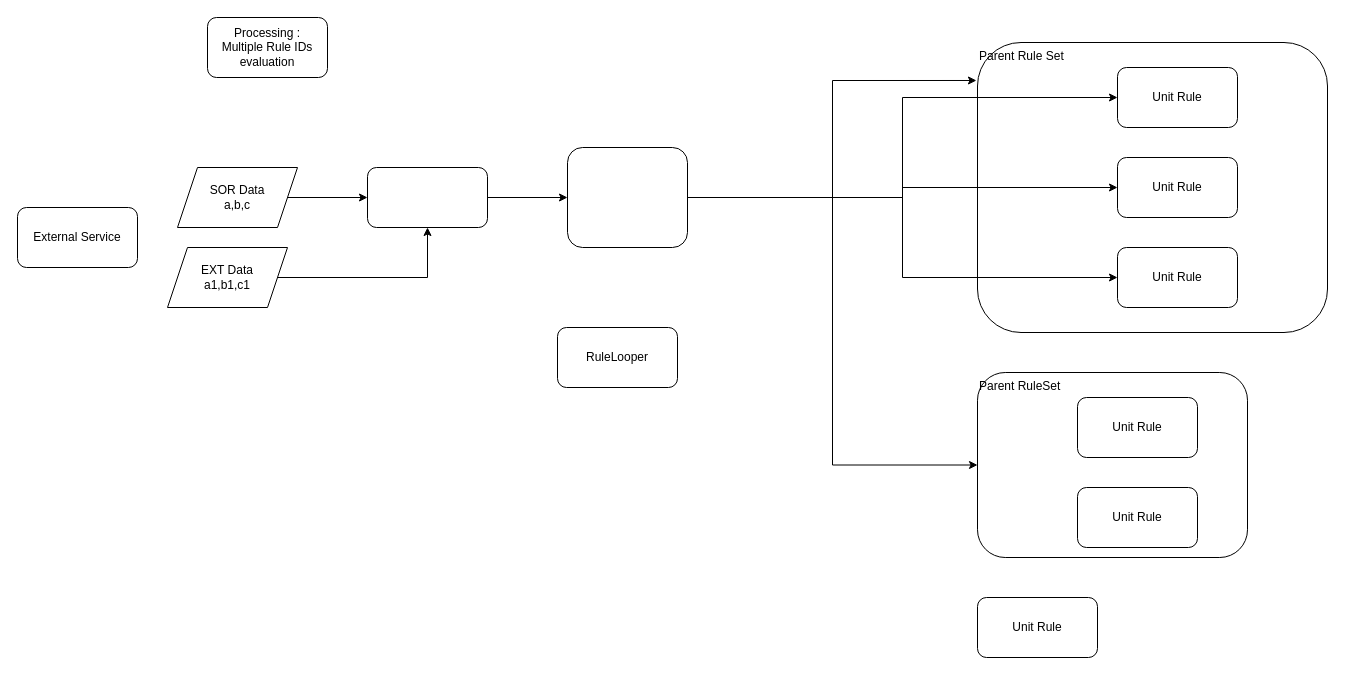
Image size: 1345x675. Some labels were removed from this diagram. The shapes that lost their labels are listed below. From the top down, each one's centre as x and y in pixels, then its label:
At (427,197): "Input Data :".
At (627,197): "Aggregator and Processor ( Class CODE ) a ,a1 b,b1 c,c1".
